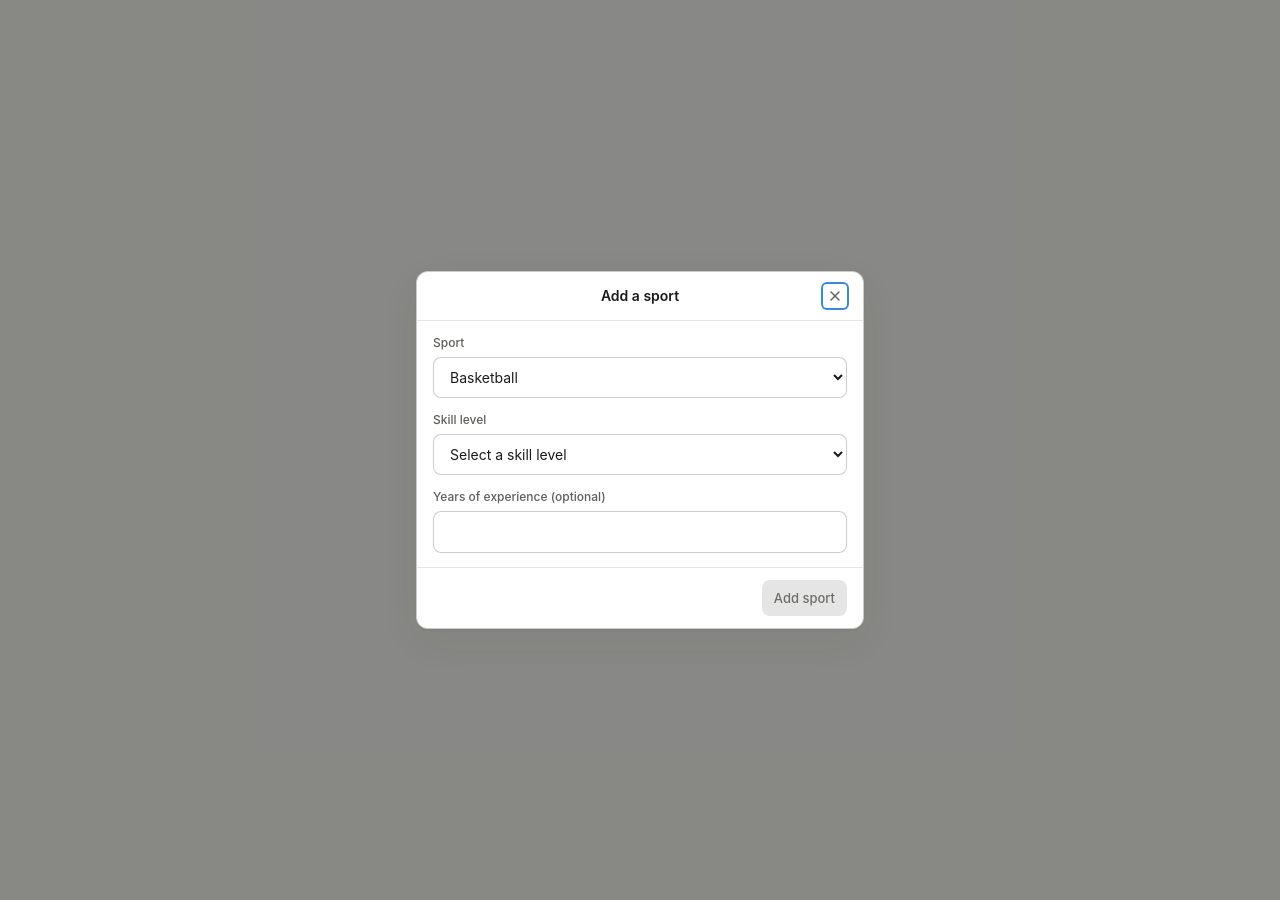
Test: AddSportModal › disables submit until a skill level is chosen
Expected: the button "Add sport" is disabled, [762,580,847,616]
Select "Intermediate" in the dropdown labelled "Skill level": (640, 454) [433,434,847,475]
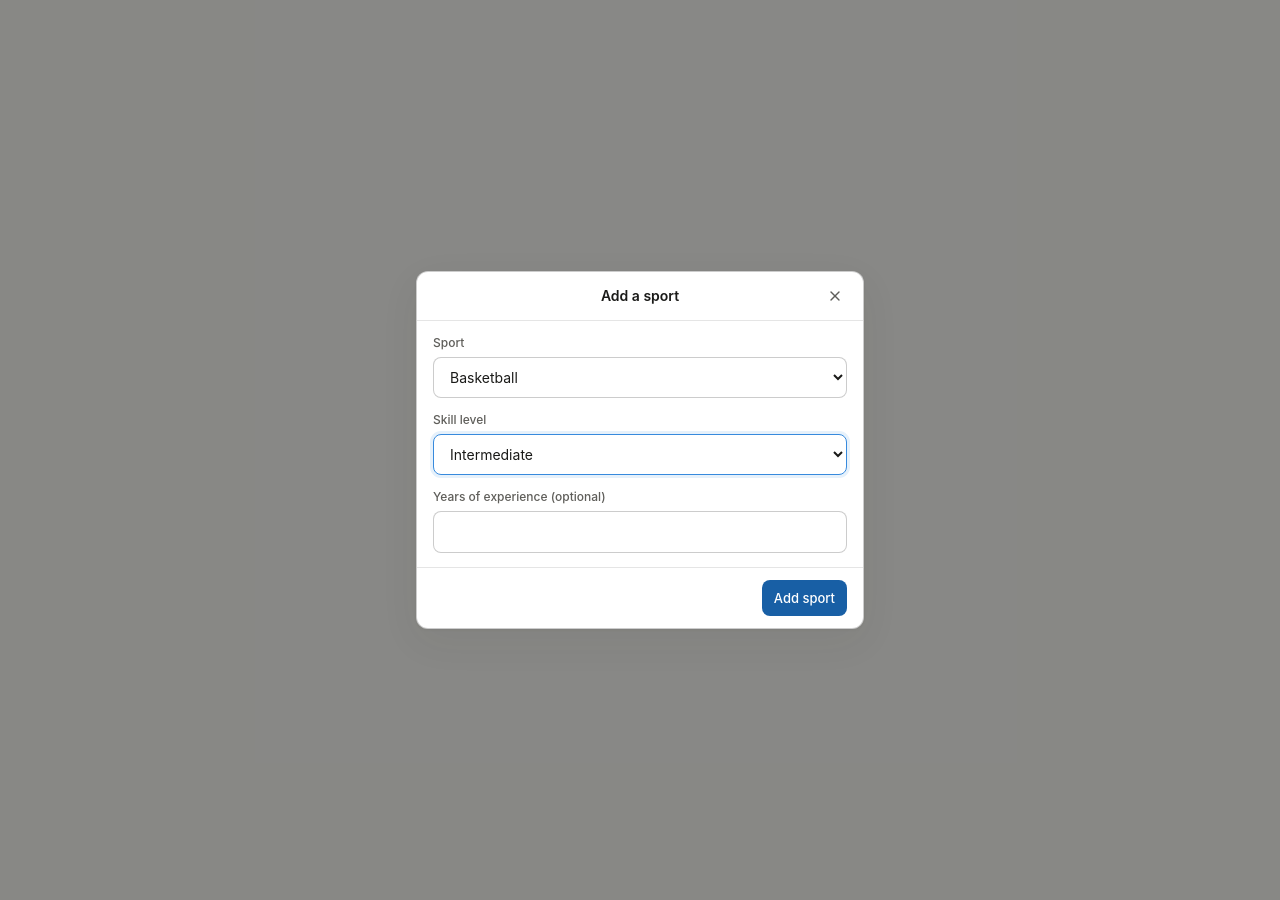
Now the button "Add sport" is enabled, box [762,580,847,616]
